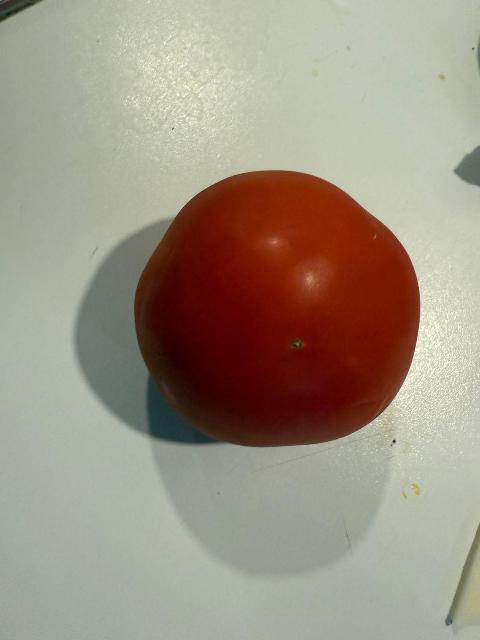Organik: (133, 171, 432, 448)
